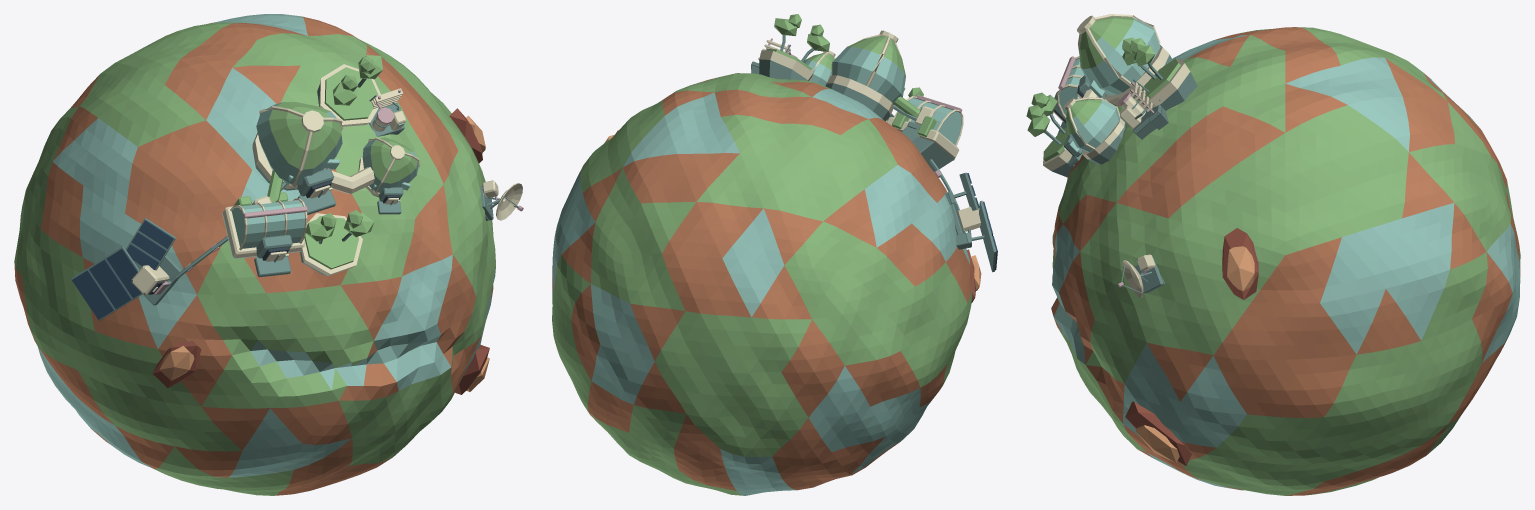
The model's file is Mars.glb.
3 views of the same model, side by side, from view 1: azimuth 30°, elevation 25°; view 2: azimuth 150°, elevation 25°; view 3: azimuth 270°, elevation 25° (orthographic). The views are drawn at different scales.
Visible parts, largest first — view 1: S5_Mars • modeled surfaces; view 2: S5_Mars • modeled surfaces; view 3: S5_Mars • modeled surfaces.
Boxes of the visible parts, x1,y1,x2,y2 form: S5_Mars • modeled surfaces: (14, 14, 523, 495); S5_Mars • modeled surfaces: (552, 14, 997, 495); S5_Mars • modeled surfaces: (1026, 14, 1520, 495).
Bounding box in the file's own units: 1.73 × 1.77 × 1.74.
